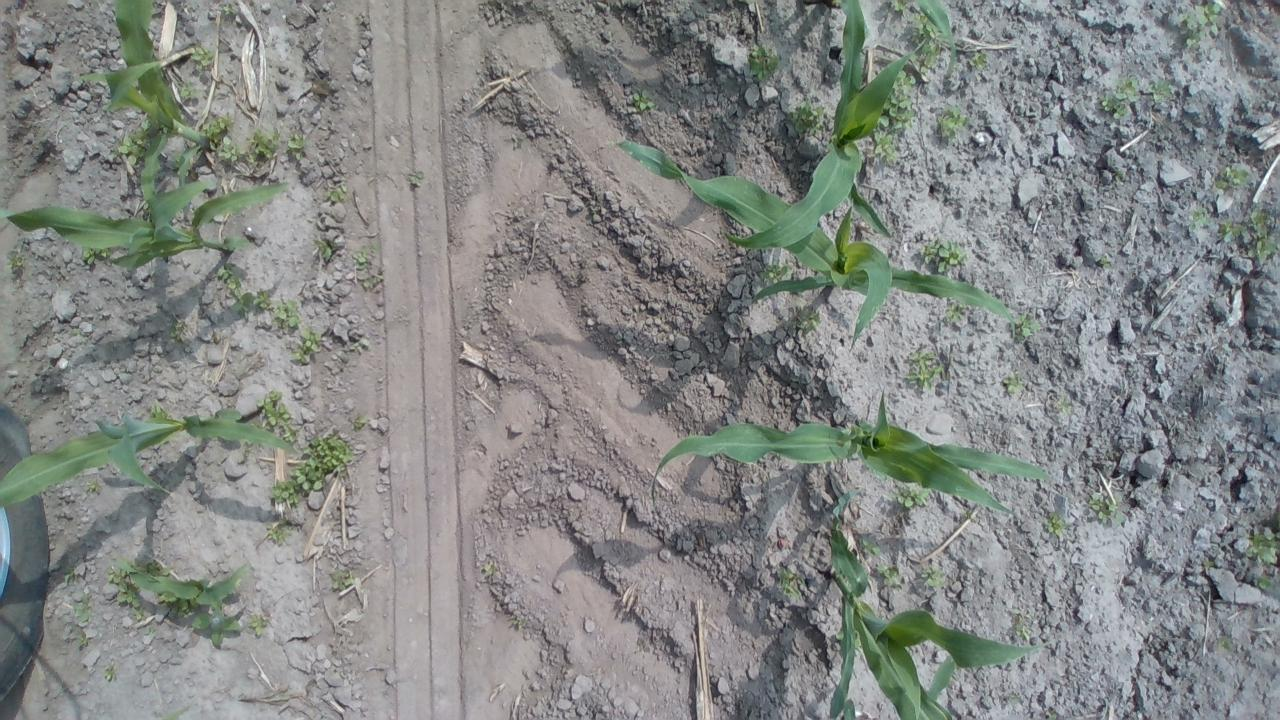Maize: (605, 138, 1015, 351), (826, 488, 1056, 720), (652, 390, 1054, 518), (724, 0, 926, 248), (0, 402, 298, 504), (76, 0, 216, 214), (0, 180, 288, 272), (794, 0, 956, 78), (112, 557, 250, 606)
Weeds: (269, 427, 354, 505), (868, 70, 916, 133), (908, 11, 948, 74), (192, 601, 242, 647), (106, 566, 144, 620), (255, 392, 296, 442), (1178, 2, 1220, 48), (918, 237, 968, 272), (906, 351, 943, 392), (788, 100, 827, 138), (110, 130, 150, 166), (245, 126, 280, 166), (748, 43, 781, 82), (200, 113, 234, 150), (1244, 532, 1280, 564), (1088, 492, 1124, 524), (290, 329, 323, 363), (786, 301, 820, 334), (936, 105, 968, 139), (1210, 167, 1250, 193), (890, 484, 930, 508), (157, 593, 200, 615), (775, 566, 804, 597), (1010, 314, 1041, 342), (872, 132, 899, 164), (272, 298, 300, 328), (352, 241, 382, 269), (264, 516, 292, 545), (218, 264, 242, 297), (126, 558, 170, 576), (1098, 94, 1128, 120), (760, 259, 791, 284), (140, 112, 172, 136), (1012, 608, 1034, 642), (284, 133, 308, 162), (1248, 237, 1278, 260), (188, 44, 214, 70), (219, 136, 245, 162), (876, 564, 902, 590), (1112, 76, 1138, 102), (230, 292, 253, 320), (1218, 220, 1247, 242), (328, 569, 357, 590), (82, 246, 112, 266), (1188, 207, 1212, 232), (1148, 80, 1174, 103), (314, 236, 336, 263), (1249, 210, 1271, 237), (1044, 512, 1068, 536), (632, 89, 656, 113), (920, 565, 945, 588), (74, 592, 92, 622), (247, 612, 268, 636), (885, 0, 912, 18), (944, 302, 968, 322), (178, 80, 201, 100), (858, 536, 881, 556), (322, 185, 348, 202), (252, 290, 274, 310), (1002, 373, 1024, 393), (170, 151, 193, 170), (6, 251, 26, 270), (357, 274, 384, 288), (969, 50, 988, 69), (148, 404, 172, 419), (404, 170, 424, 187), (238, 440, 251, 464), (1056, 396, 1073, 414), (168, 322, 184, 340), (349, 338, 369, 352), (352, 414, 368, 430), (1216, 637, 1233, 651), (1257, 574, 1272, 588), (64, 565, 76, 582), (75, 630, 87, 647), (103, 665, 116, 680), (142, 203, 152, 221), (84, 481, 100, 492), (484, 564, 498, 576), (224, 4, 238, 15), (142, 626, 156, 636), (338, 352, 349, 364), (1100, 256, 1110, 267), (1114, 171, 1124, 182), (1203, 562, 1216, 570), (963, 510, 973, 520), (1046, 710, 1056, 720), (512, 618, 524, 626), (1010, 694, 1020, 702), (70, 328, 82, 334), (1277, 514, 1280, 528)
